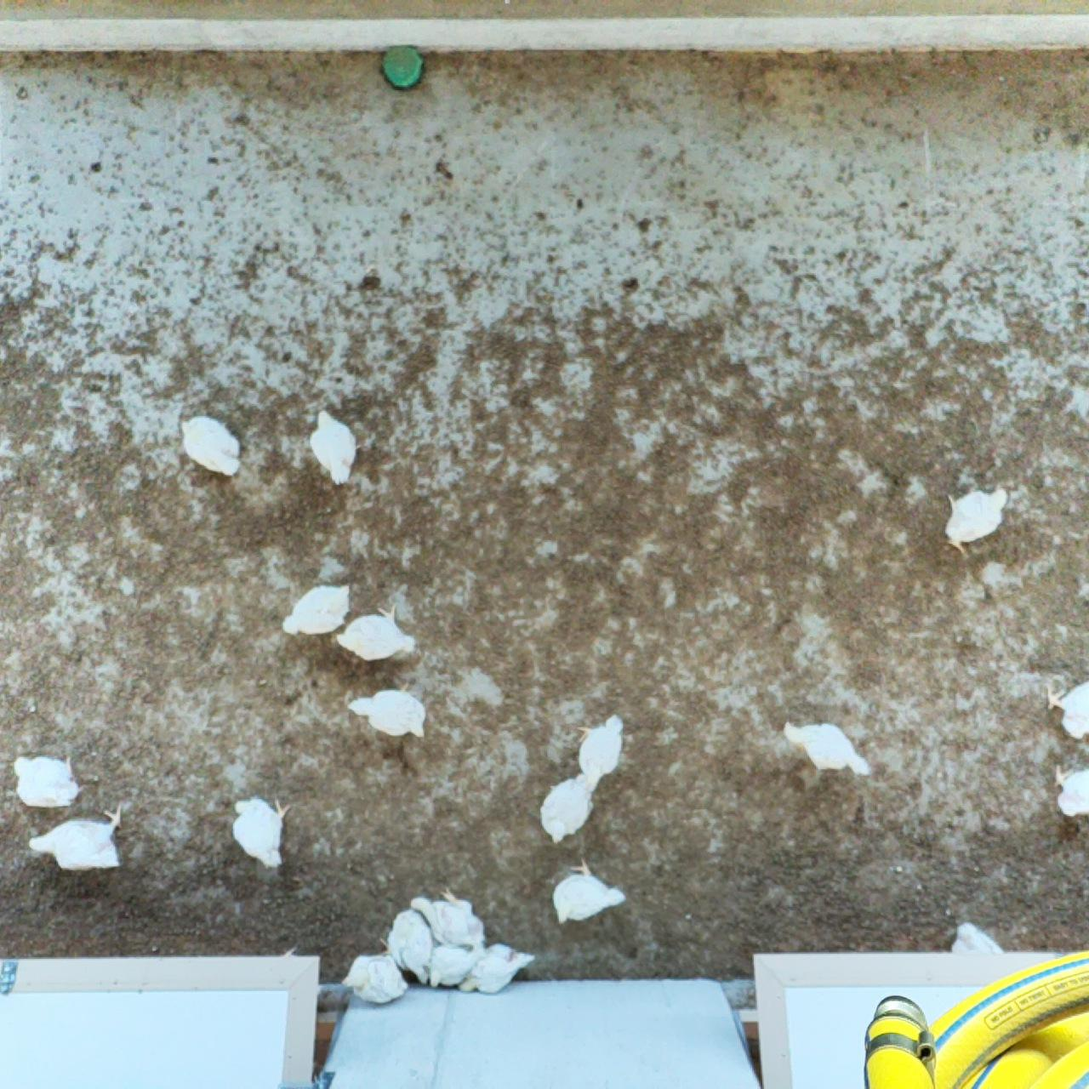chicken: (27, 802, 127, 875), (780, 713, 873, 779), (226, 790, 293, 875), (549, 855, 627, 928), (409, 885, 489, 953), (346, 678, 431, 741), (941, 486, 1013, 556), (335, 604, 417, 663), (537, 773, 601, 847), (9, 751, 86, 811), (456, 941, 536, 998), (178, 413, 245, 479), (308, 408, 364, 486), (378, 906, 430, 988), (281, 580, 354, 637), (573, 713, 626, 790), (339, 950, 409, 1008), (1044, 675, 1089, 741), (428, 939, 486, 990), (948, 916, 1003, 961), (1051, 761, 1089, 820)
